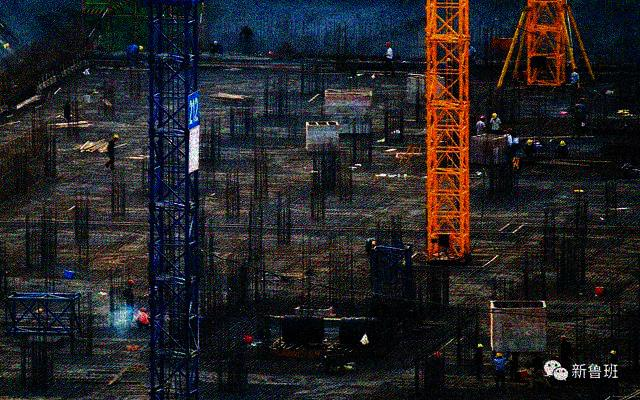helmet: (138, 305, 147, 314), (127, 279, 135, 289), (558, 335, 568, 343), (476, 343, 485, 351), (559, 140, 567, 148), (479, 115, 487, 123), (491, 112, 498, 121), (495, 352, 503, 359), (385, 41, 392, 49), (112, 134, 119, 141), (137, 45, 144, 52), (579, 97, 586, 104), (575, 104, 581, 110)
